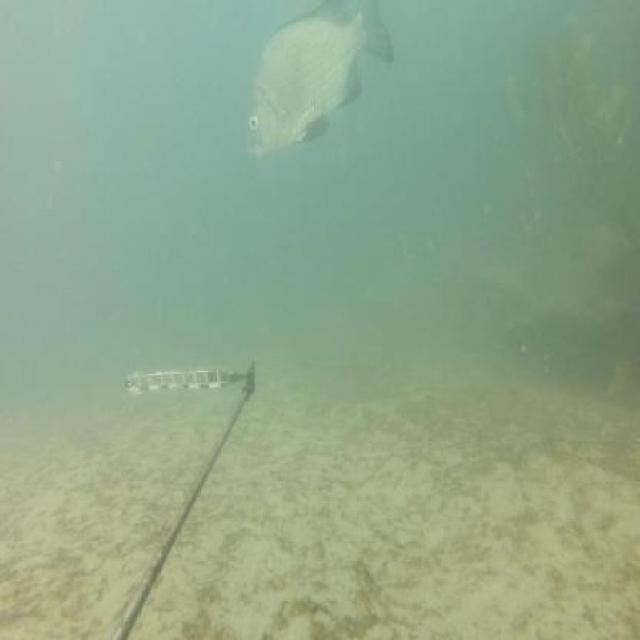acanthopagrus_palmaris: (244, 3, 396, 168)
